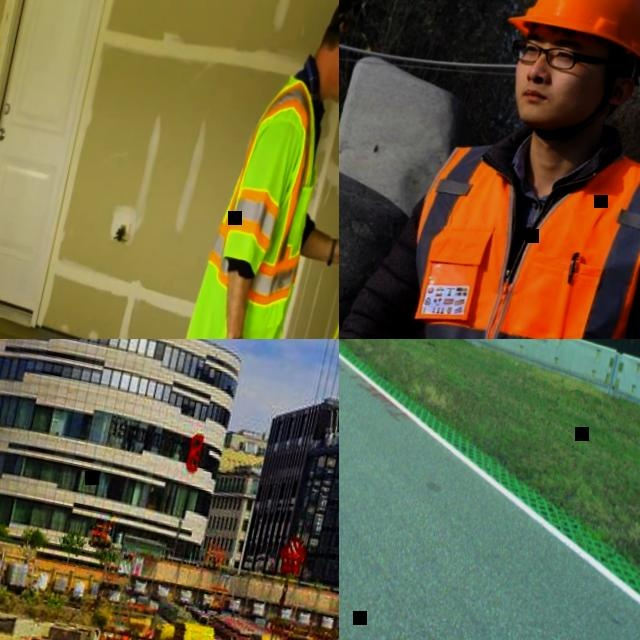Hardhat: (504, 0, 640, 66), (320, 0, 339, 75)
NO-Mask: (508, 72, 604, 136)
Person: (339, 0, 640, 339), (139, 0, 339, 339)
Safety Vest: (369, 118, 640, 339), (191, 65, 339, 338)
